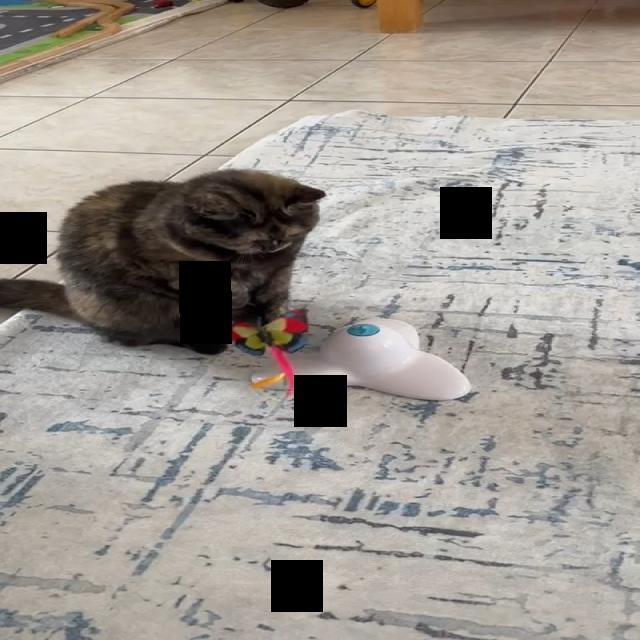authorized: (0, 167, 327, 355)
